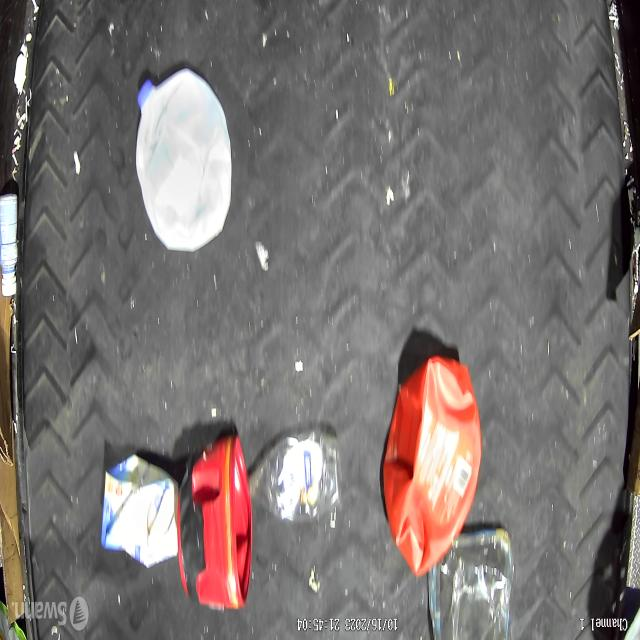milk_jug: (134, 66, 232, 254)
non_white_jug: (381, 354, 482, 578), (176, 430, 252, 610), (100, 454, 178, 570)
plastic_bottle: (248, 430, 341, 530)
